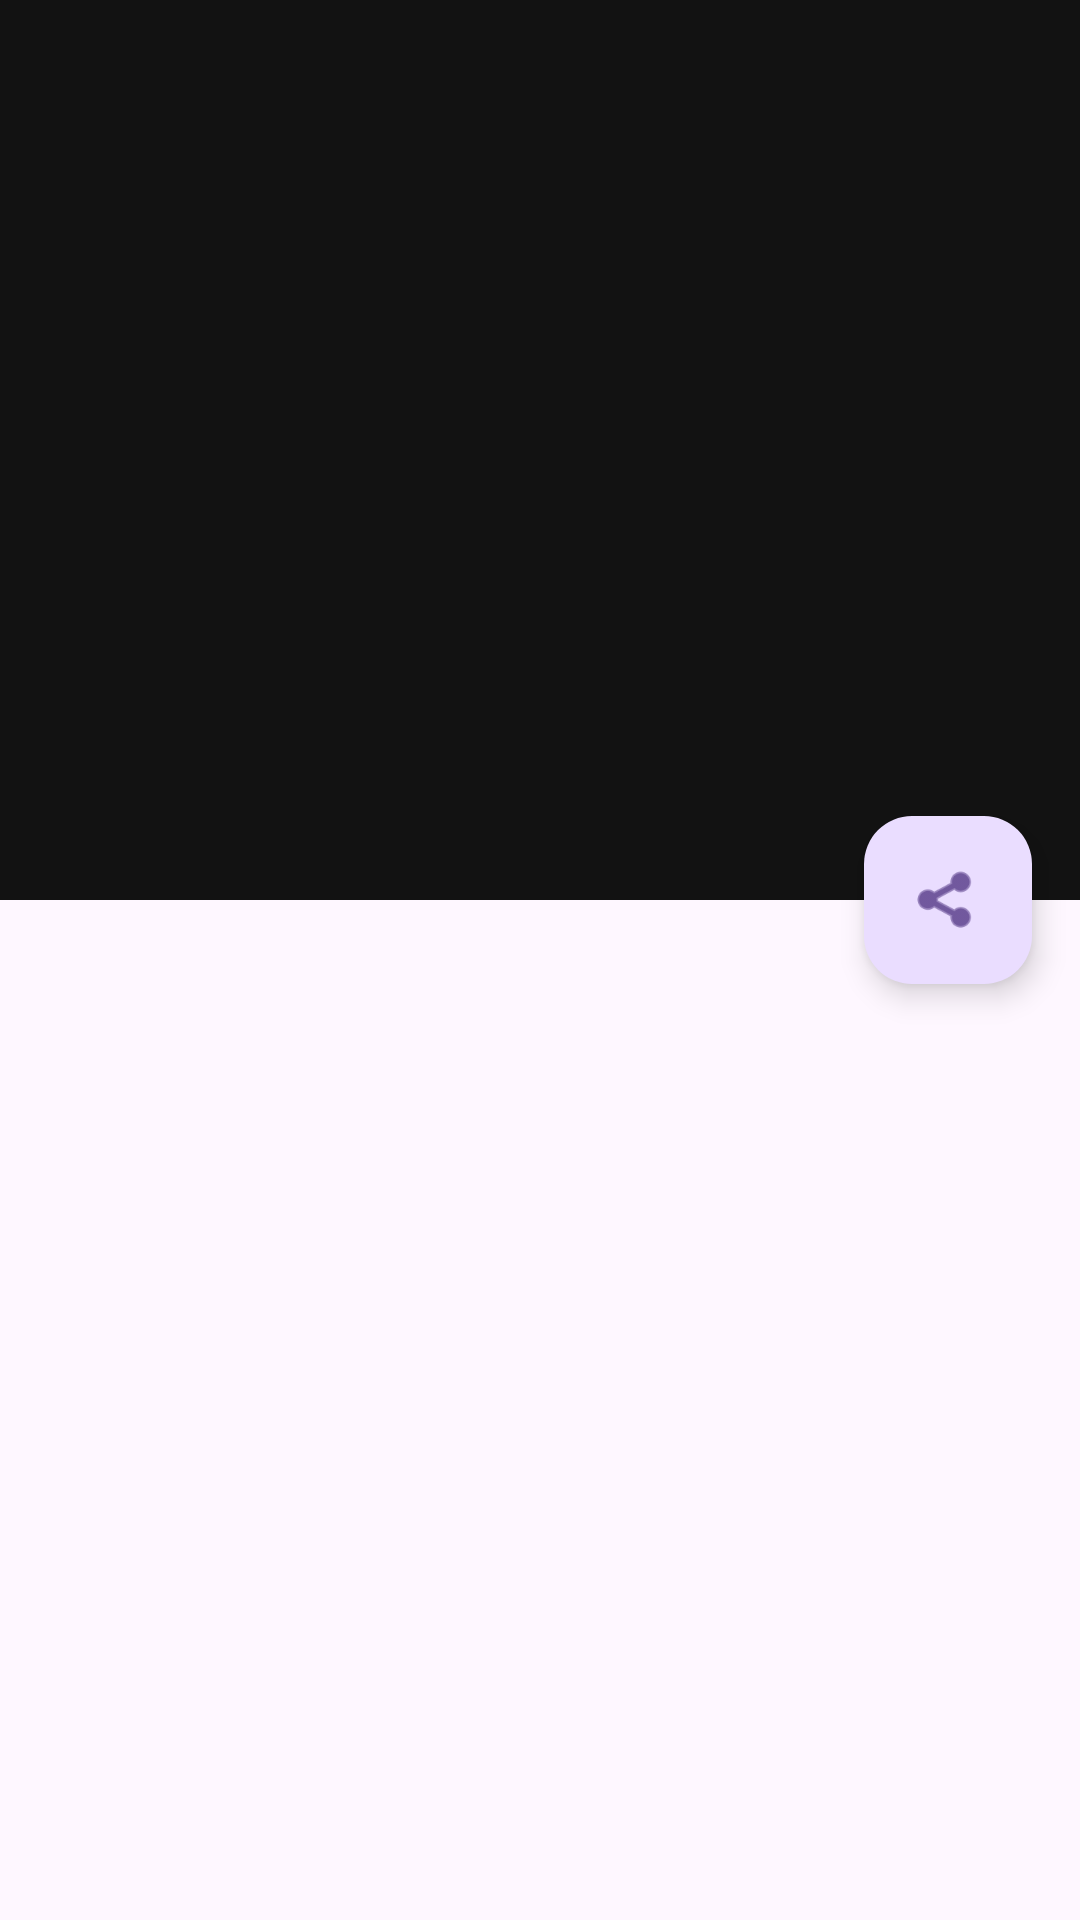

Where to tap for icons on this 1080 × 1920 app screen, as point (x, y):
Поделиться: point (948, 900)
